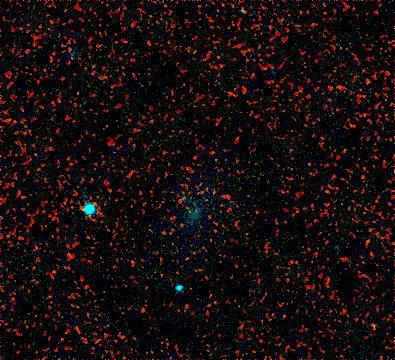star: (360, 313, 390, 343)
